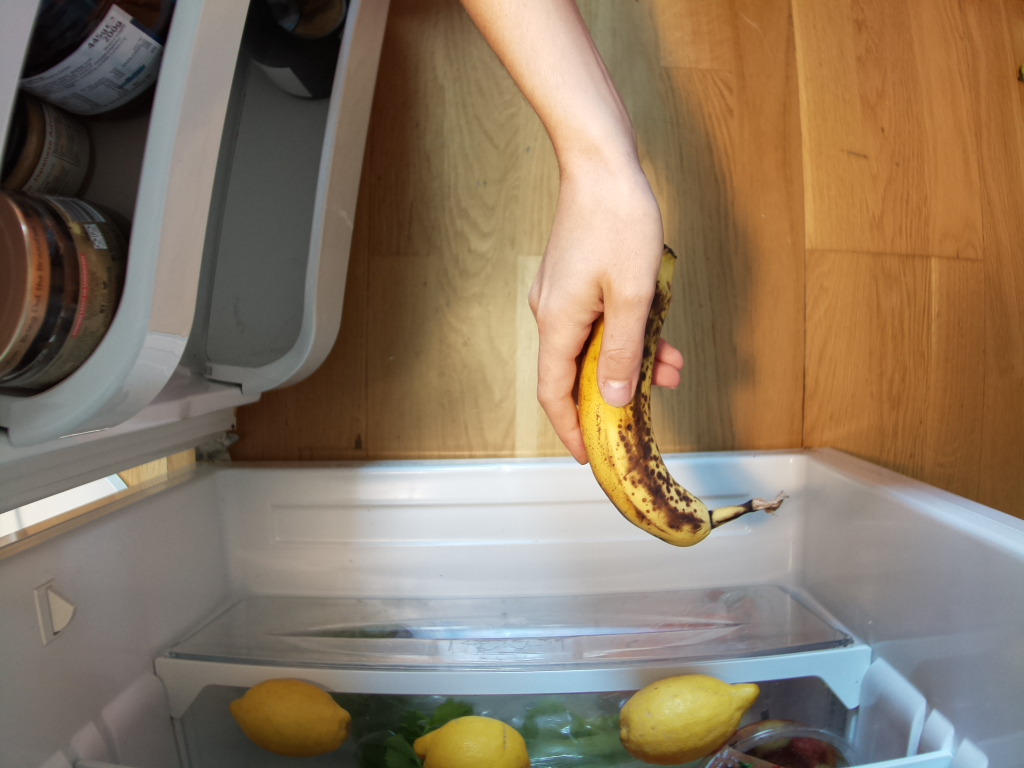banana-overripe: (582, 233, 784, 545)
